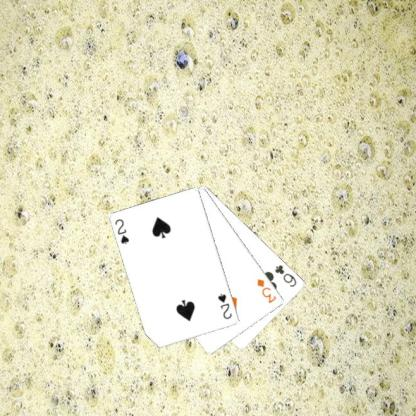2S: (112, 216, 131, 246), (215, 291, 233, 320)
3D: (254, 275, 278, 304)
6C: (272, 262, 298, 288)
